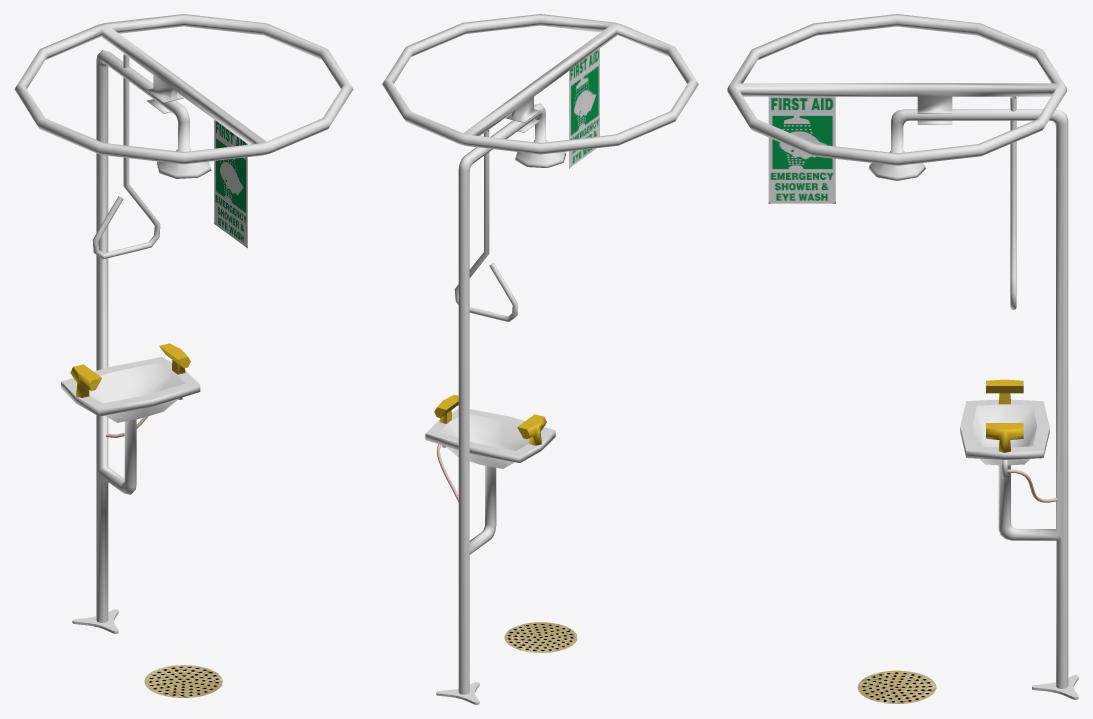
File: safety shower.fbx
3 renders of one model, left to right at view 1: azimuth 30°, elevation 25°; view 2: azimuth 150°, elevation 25°; view 3: azimuth 270°, elevation 25°, orthographic. The views are drawn at different scales.
Visible parts, largest first — view 1: Elbow Joint.002, Torus.001, Plane.001, Plane.003, Plane, Cube.001; view 2: Elbow Joint.002, Torus.001, Plane.001, Plane.003, Plane, Cube.001; view 3: Elbow Joint.002, Torus.001, Plane.002, Plane.003, Plane, Cube, Cube.001.
Boxes of the visible parts, box(x1,y1,x2,y2) form: Elbow Joint.002: box(61, 50, 211, 622); Torus.001: box(14, 14, 353, 164); Plane.001: box(214, 120, 247, 247); Plane.003: box(144, 665, 222, 697); Plane: box(93, 53, 160, 259); Cube.001: box(70, 364, 101, 397); Elbow Joint.002: box(425, 103, 566, 694); Torus.001: box(382, 14, 698, 154); Plane.001: box(569, 48, 599, 168); Plane.003: box(504, 622, 577, 652); Plane: box(454, 130, 517, 321); Cube.001: box(517, 414, 546, 445); Elbow Joint.002: box(868, 109, 1068, 688); Torus.001: box(727, 14, 1066, 165); Plane.002: box(768, 96, 835, 203); Plane.003: box(857, 670, 936, 703); Plane: box(1010, 96, 1016, 309); Cube: box(986, 423, 1023, 452); Cube.001: box(986, 379, 1023, 404).
Size of the model in its own units: 127 by 246 by 130.
